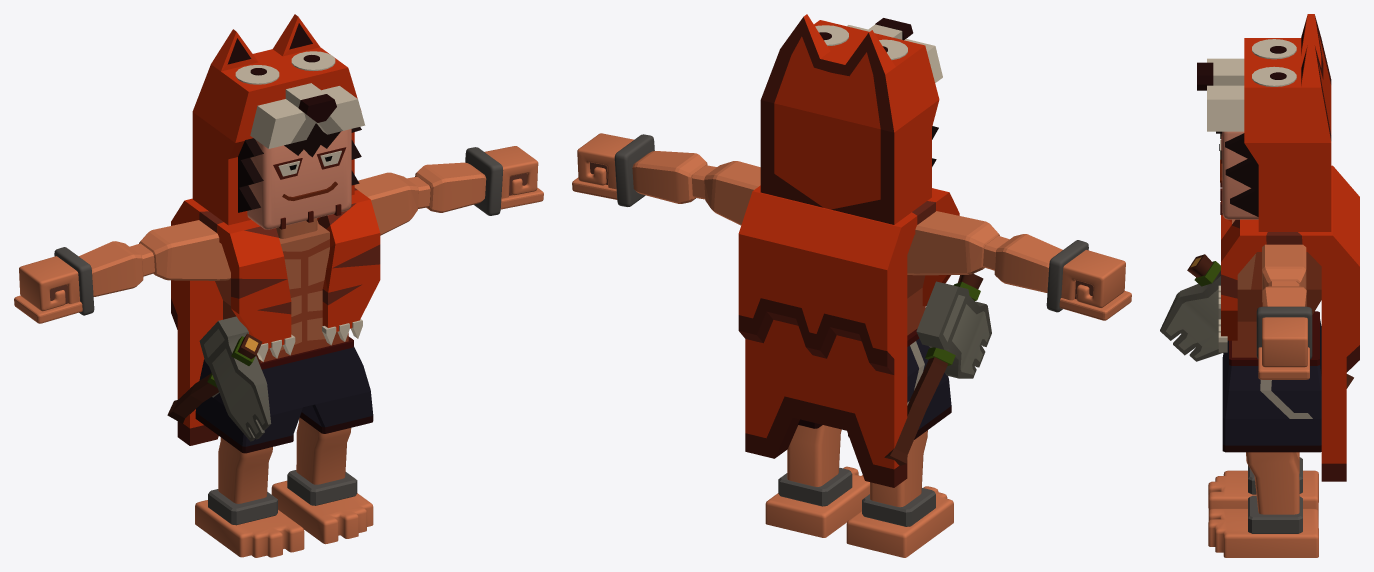
Rendered from zhujiao_02.FBX.
3 renders of one model, left to right at view 1: azimuth 30°, elevation 25°; view 2: azimuth 150°, elevation 25°; view 3: azimuth 270°, elevation 25°, orthographic. The views are drawn at different scales.
Visible parts, largest first — view 1: Object146; view 2: Object146; view 3: Object146.
Part boxes in pixels (box(x1,y1,x2,y2)): Object146: box(14, 14, 543, 557); Object146: box(572, 14, 1131, 557); Object146: box(1160, 14, 1359, 557).
Bounding box in the file's own units: 280 × 258 × 94.1.
